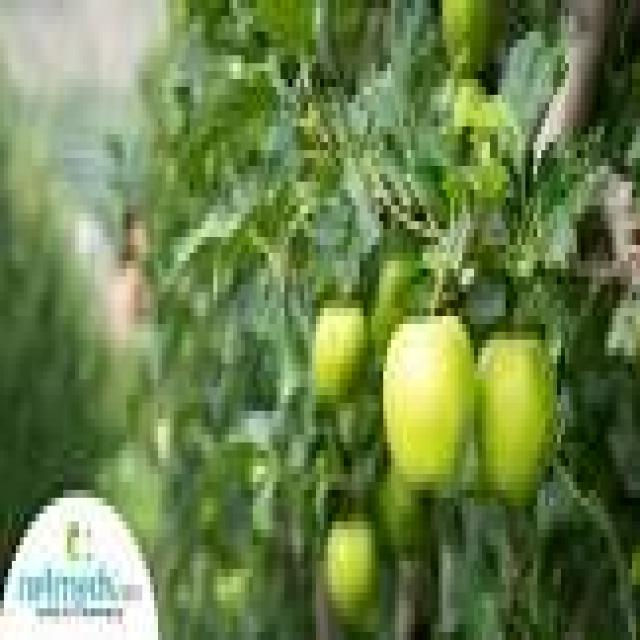apple: (384, 317, 474, 489), (479, 340, 557, 505), (324, 514, 379, 624), (313, 301, 367, 402)
